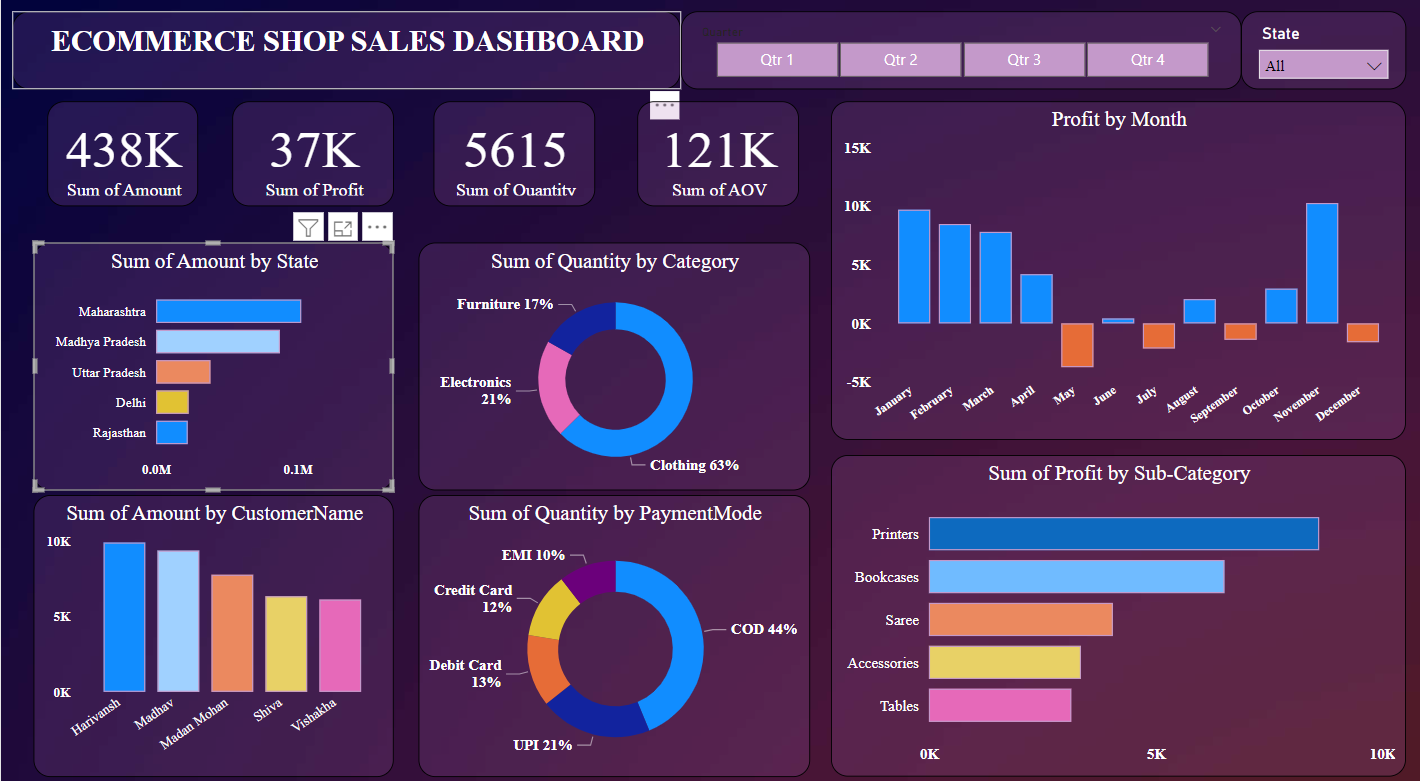

The page's visual inventory and layout, read from the dashboard file:
{"tool":"powerbi","page":{"name":"Page 1","canvas":[1280,720],"ordinal":0},"visuals":[{"type":"textbox","box":[9.6,19.2,595.5,70],"z":0},{"type":"columnChart","title":"Profit by Month","fields":{"Y":["Details.Profit"],"Category":["Orders.Order Date.Variation.Date Hierarchy.Month"]},"box":[739.6,98.8,511.8,301.9],"z":1000},{"type":"barChart","fields":{"Category":["Details.Sub-Category"],"Y":["Details.Profit"]},"box":[739.6,414.4,511.8,286.8],"z":2000},{"type":"donutChart","fields":{"Category":["Details.Category"],"Y":["Details.Quantity"]},"box":[371.9,225,348.5,220.9],"z":3000},{"type":"donutChart","fields":{"Y":["Details.Quantity"],"Category":["Details.PaymentMode"]},"box":[371.9,450.1,348.5,251.1],"z":4000},{"type":"card","fields":{"Values":["Details.Amount"]},"box":[41.2,98.8,134.5,93.3],"z":5000},{"type":"card","fields":{"Values":["Details.Quantity"]},"box":[385.6,98.8,144.1,93.3],"z":6000},{"type":"card","fields":{"Values":["Details.Profit"]},"box":[205.8,98.8,144.1,93.3],"z":7000},{"type":"card","fields":{"Values":["Details.AOV"]},"box":[566.7,98.8,144.1,93.3],"z":8000},{"type":"barChart","fields":{"Category":["Orders.State"],"Y":["Details.Amount"]},"box":[28.8,225,321.1,220.9],"z":9000},{"type":"columnChart","fields":{"Category":["Orders.CustomerName"],"Y":["Details.Amount"]},"box":[28.8,450.1,321.1,251.1],"z":10000},{"type":"slicer","fields":{"Values":["Orders.Order Date.Variation.Date Hierarchy.Quarter"]},"box":[605.1,19.2,499.5,70],"z":11000},{"type":"slicer","fields":{"Values":["Orders.State"]},"box":[1104.6,19.2,146.8,70],"z":12000}]}

Visuals, with their boxes in screenshot pixels (x1, y1, x2, y2), scaled from the page's 1280x720 canvas onto the 1420x781 screenshot:
textbox: l=11, t=21, r=671, b=97
"Profit by Month" columnChart: l=820, t=107, r=1388, b=435
barChart - Details.Sub-Category x Details.Profit: l=820, t=450, r=1388, b=761
donutChart - Details.Category x Details.Quantity: l=413, t=244, r=799, b=484
donutChart - Details.Quantity x Details.PaymentMode: l=413, t=488, r=799, b=761
card - Details.Amount: l=46, t=107, r=195, b=208
card - Details.Quantity: l=428, t=107, r=588, b=208
card - Details.Profit: l=228, t=107, r=388, b=208
card - Details.AOV: l=629, t=107, r=789, b=208
barChart - Orders.State x Details.Amount: l=32, t=244, r=388, b=484
columnChart - Orders.CustomerName x Details.Amount: l=32, t=488, r=388, b=761
slicer - Orders.Order Date.Variation.Date Hierarchy.Quarter: l=671, t=21, r=1225, b=97
slicer - Orders.State: l=1225, t=21, r=1388, b=97
